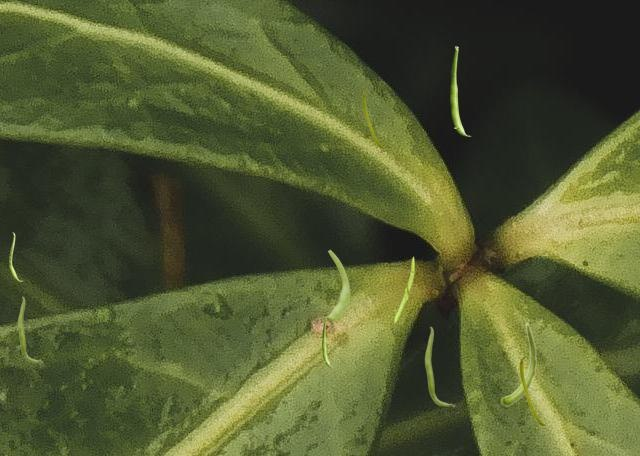french_bean: (500, 321, 536, 405), (424, 326, 454, 406), (316, 249, 349, 319), (519, 355, 545, 425), (450, 46, 470, 135), (17, 296, 42, 362), (393, 255, 414, 330), (362, 90, 383, 147), (9, 232, 22, 280), (322, 319, 332, 365)
